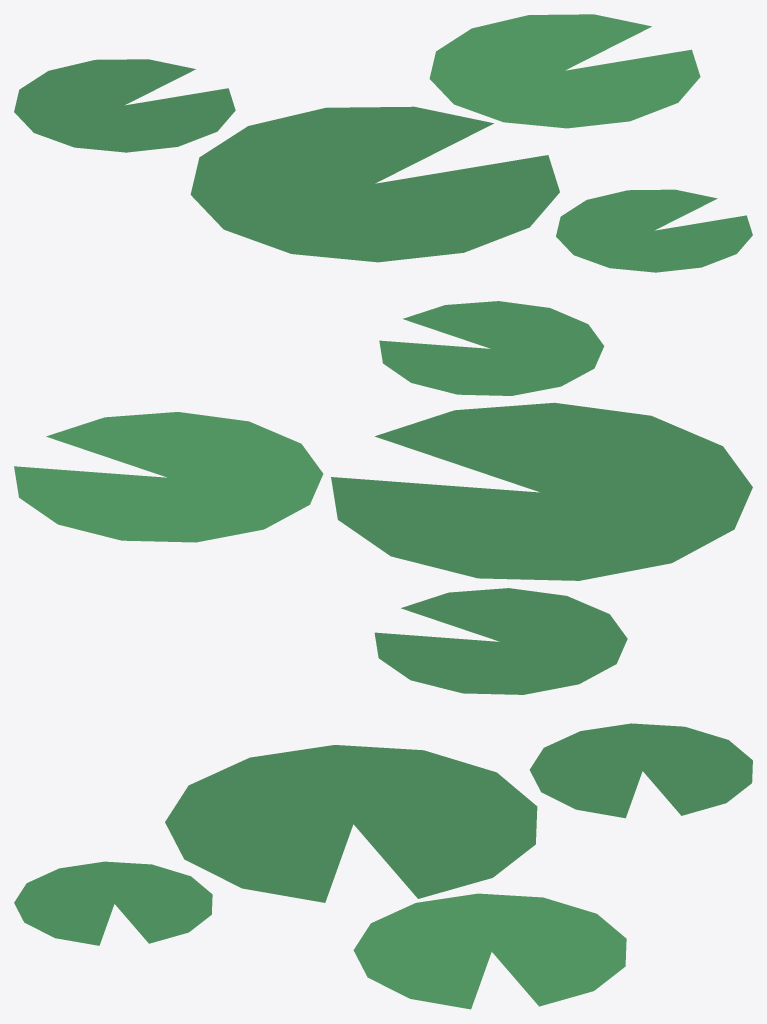
File: lily.glb
3 renders of one model, top to bottom at view 1: azimuth 30°, elevation 25°; view 2: azimuth 150°, elevation 25°; view 3: azimuth 270°, elevation 25°, orthographic. The views are drawn at different scales.
Visible parts, largest first — view 1: body; view 2: body; view 3: body.
Boxes of the visible parts, x1=… form: body: x1=14, y1=14, x2=752, y2=272; body: x1=14, y1=301, x2=752, y2=694; body: x1=14, y1=723, x2=752, y2=1009.
Bounding box in the file's own units: 1.08 × 0 × 1.18.
